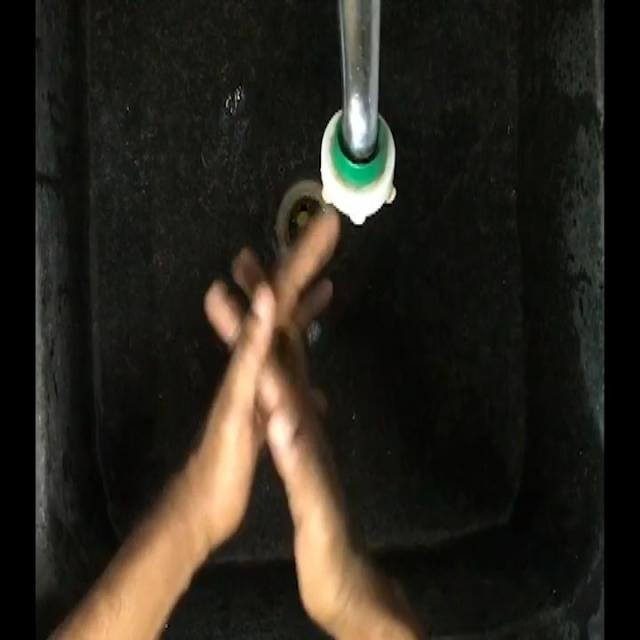step_3: (180, 190, 352, 552)
